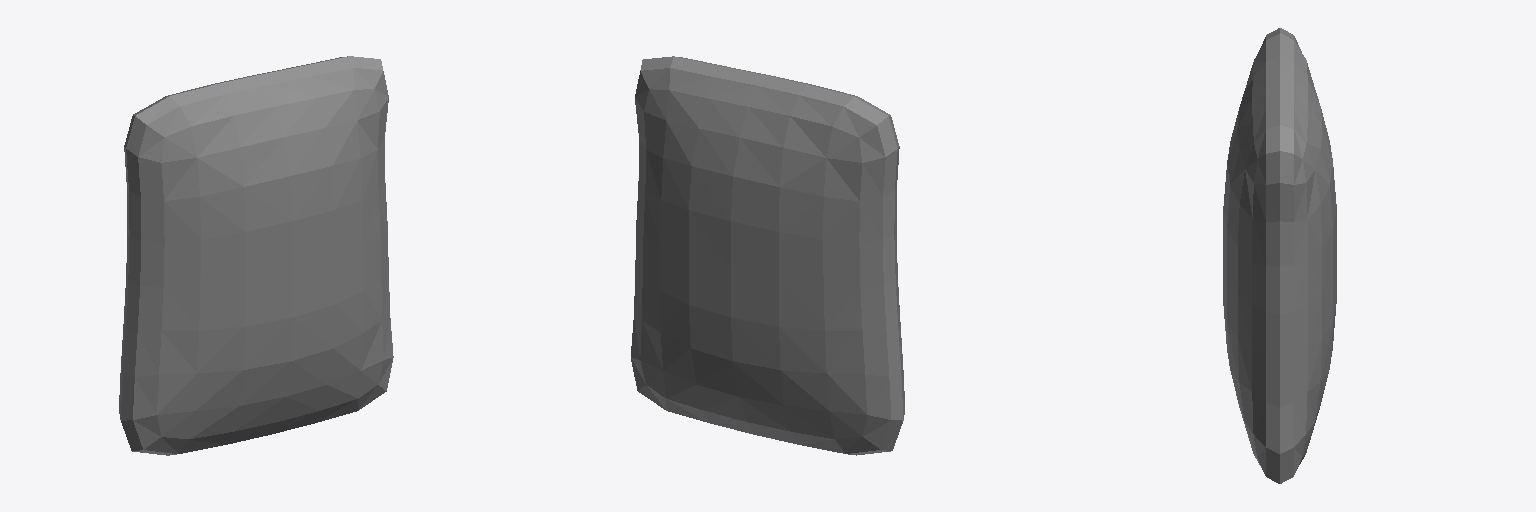
File: algodon.obj
3 renders of one model, left to right at view 1: azimuth 30°, elevation 25°; view 2: azimuth 150°, elevation 25°; view 3: azimuth 270°, elevation 25°, orthographic.
Parts seen in each view (by area): view 1: Box001; view 2: Box001; view 3: Box001.
Boxes of the visible parts, box(x1,y1,x2,y2) form: Box001: box(119, 56, 393, 455); Box001: box(631, 56, 904, 455); Box001: box(1223, 28, 1336, 483).
Size of the model in its own units: 0.763 by 0.9758 by 0.2766.